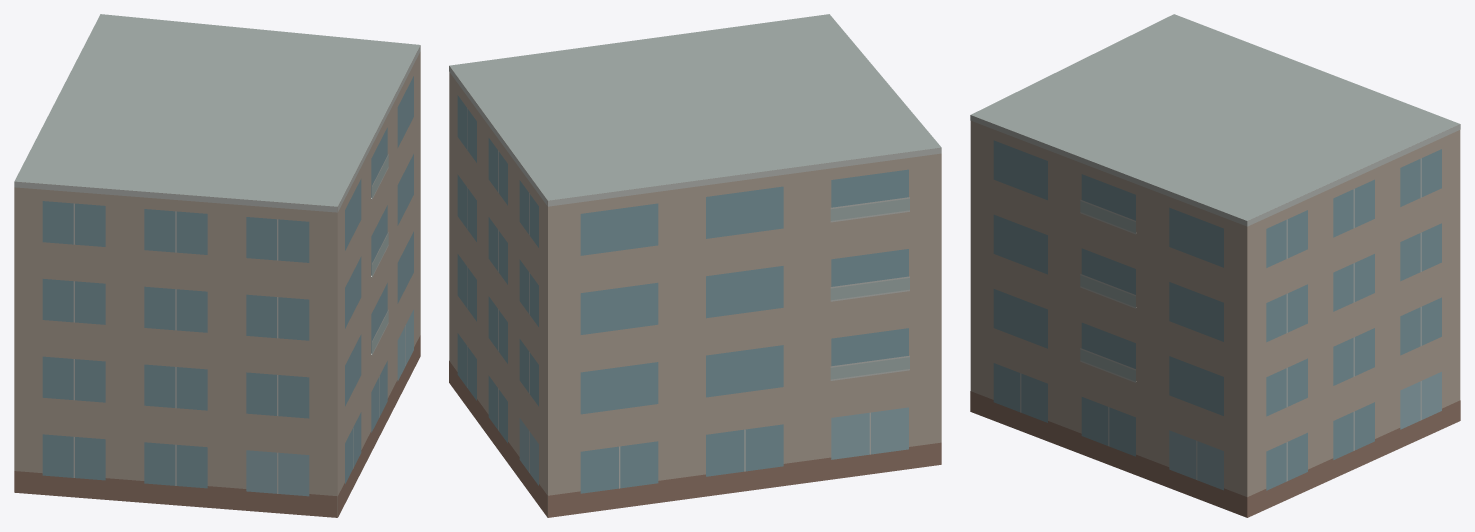
Rendered from survey-upis-32821125.glb.
3 views of the same model, side by side, from view 1: azimuth 30°, elevation 25°; view 2: azimuth 150°, elevation 25°; view 3: azimuth 270°, elevation 25° (orthographic). The views are drawn at different scales.
Parts seen in each view (by area): view 1: survey-upis-32821125.tmp; view 2: survey-upis-32821125.tmp; view 3: survey-upis-32821125.tmp.
Part boxes in pixels (left/top/right/bottom): survey-upis-32821125.tmp: left=14, top=14, right=420, bottom=517; survey-upis-32821125.tmp: left=449, top=14, right=941, bottom=517; survey-upis-32821125.tmp: left=970, top=14, right=1460, bottom=517.
Size of the model in its own units: 19.46 by 13 by 19.46.
